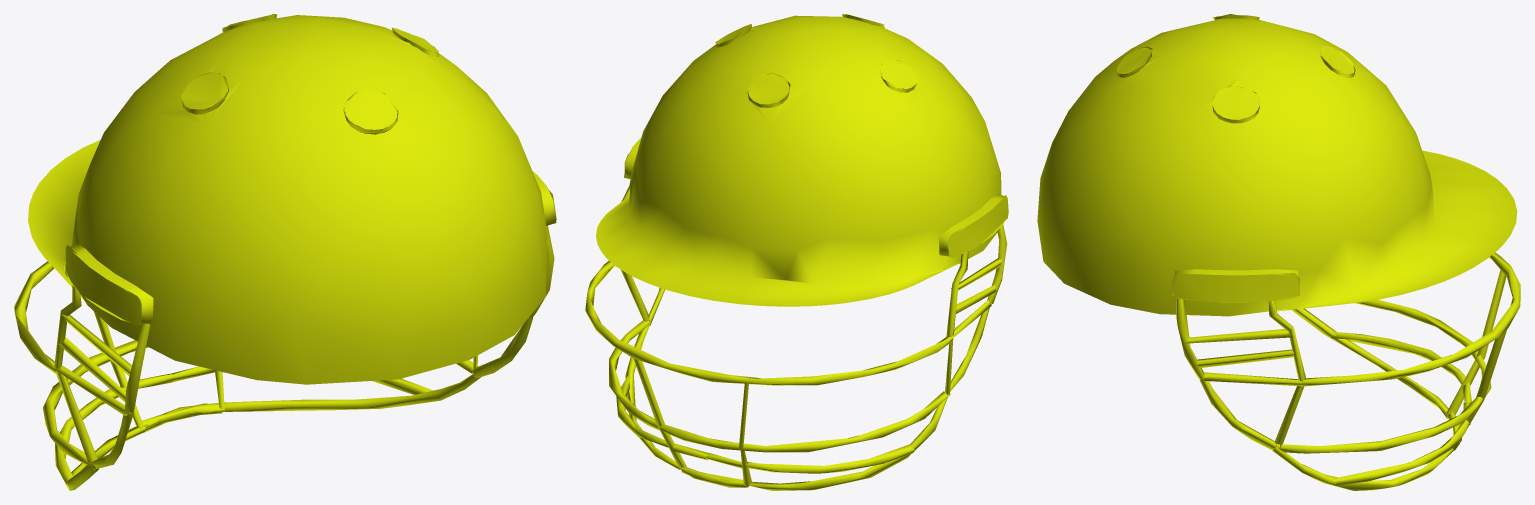
Rendered from helmet.glb.
3 renders of one model, left to right at view 1: azimuth 30°, elevation 25°; view 2: azimuth 150°, elevation 25°; view 3: azimuth 270°, elevation 25°, orthographic. The views are drawn at different scales.
Parts seen in each view (by area): view 1: Object_2; view 2: Object_2; view 3: Object_2.
Part boxes in pixels (x1=…): Object_2: x1=14, y1=14, x2=556, y2=490; Object_2: x1=585, y1=14, x2=1008, y2=490; Object_2: x1=1037, y1=14, x2=1520, y2=490.
Bounding box in the file's own units: 212 × 223 × 243.
